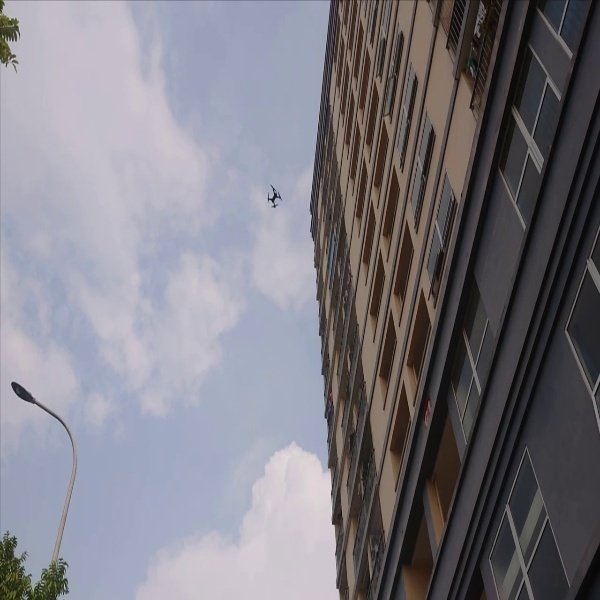drone: (260, 177, 290, 213)
